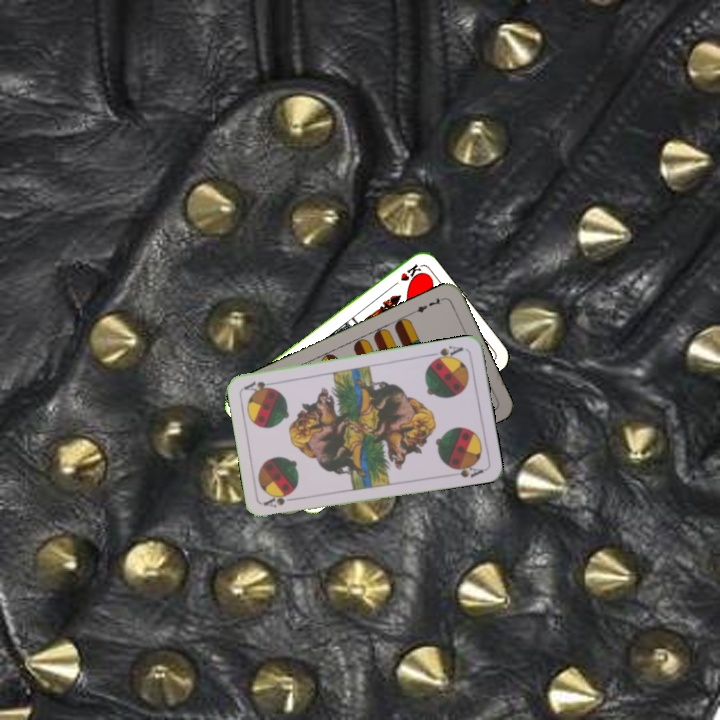E7: (408, 293, 447, 316)
HK: (387, 259, 424, 291)
SA: (427, 341, 465, 364), (260, 490, 300, 510)
